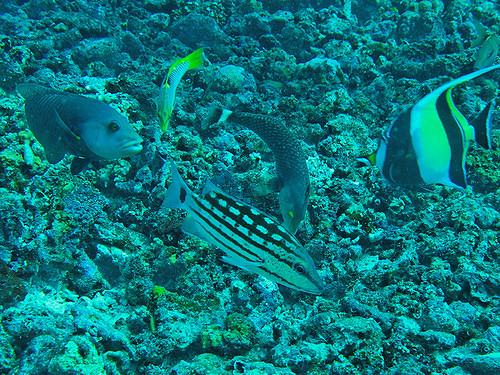Labridae -Wrasse-: (203, 99, 316, 238)
Lutjanidae -Snappers-: (156, 156, 327, 299)
Zanclidae -Moorish Idol-: (368, 58, 497, 192)
